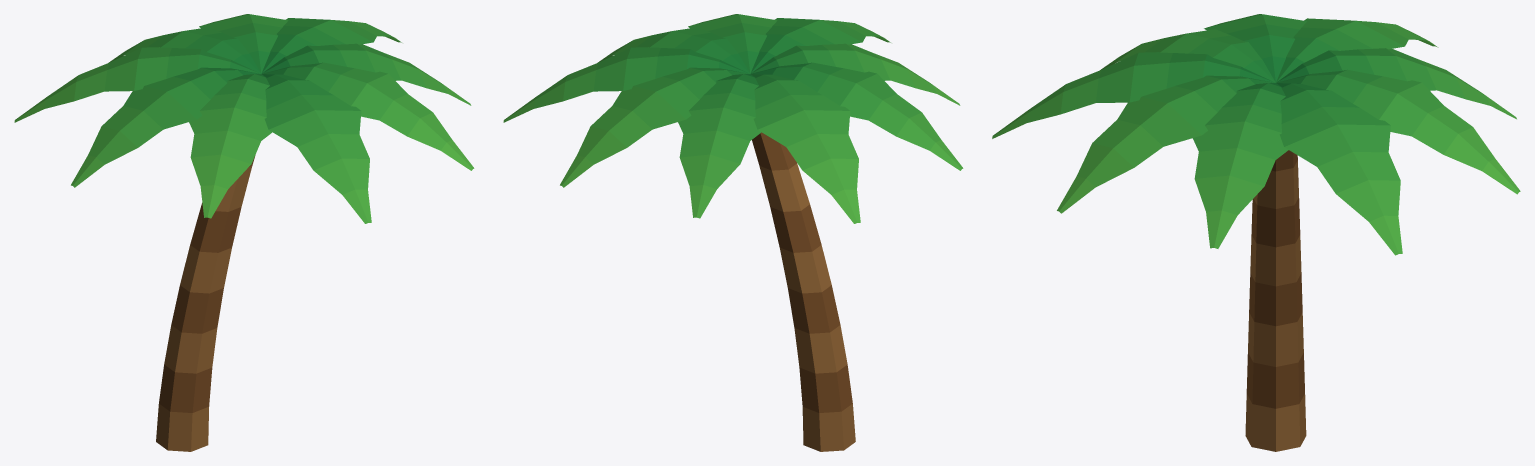
Rendered from palm_tropic.glb.
3 views of the same model, side by side, from view 1: azimuth 30°, elevation 25°; view 2: azimuth 150°, elevation 25°; view 3: azimuth 270°, elevation 25° (orthographic). The views are drawn at different scales.
Visible parts, largest first — view 1: palm_tropic; view 2: palm_tropic; view 3: palm_tropic.
Boxes of the visible parts, bbox=[...] form: palm_tropic: bbox=[14, 14, 474, 451]; palm_tropic: bbox=[503, 14, 963, 451]; palm_tropic: bbox=[992, 14, 1520, 451].
Size of the model in its own units: 1.51 by 1.34 by 1.53.
